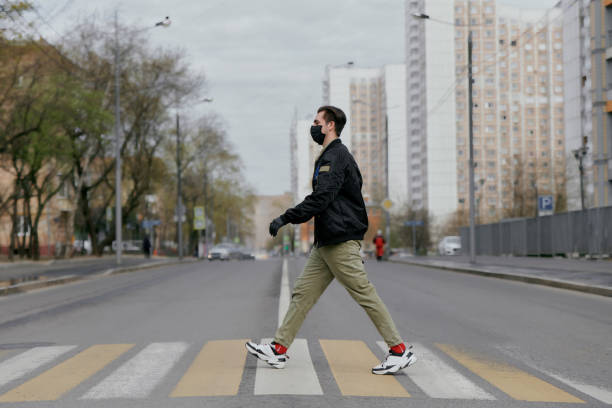yaya: (262, 93, 433, 391)
